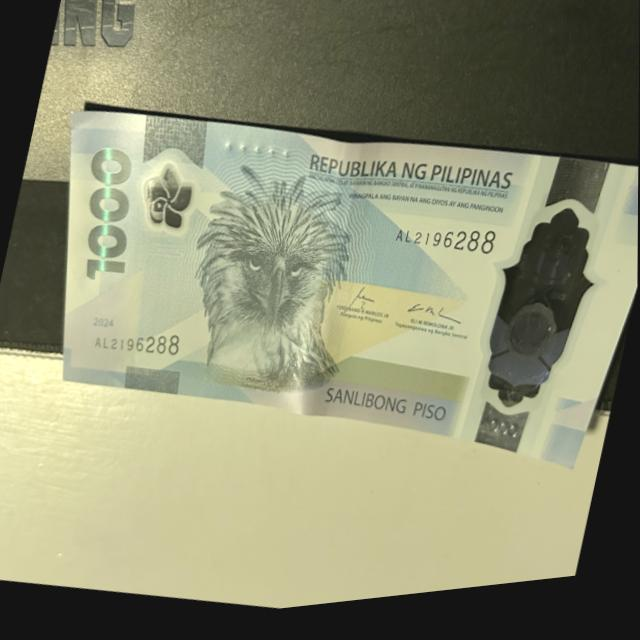clear_window: (453, 193, 621, 451)
eagle: (185, 167, 358, 403)
sampaguita: (134, 161, 194, 249)
